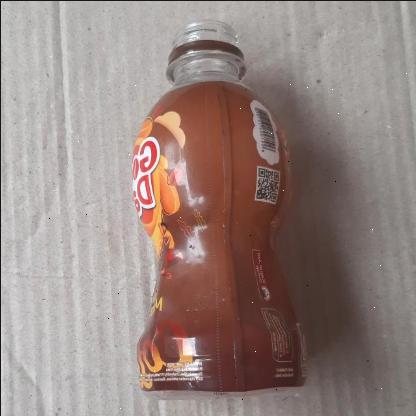Plastic Bottle: (131, 15, 307, 400)
